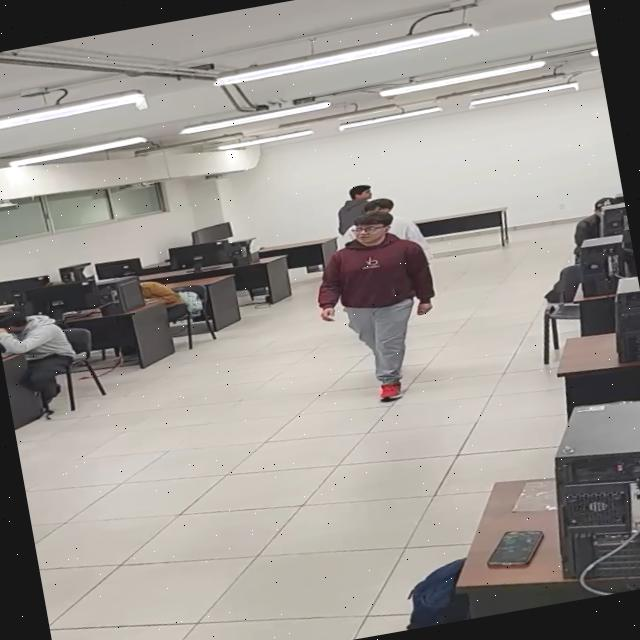Persona: (303, 203, 452, 410)
